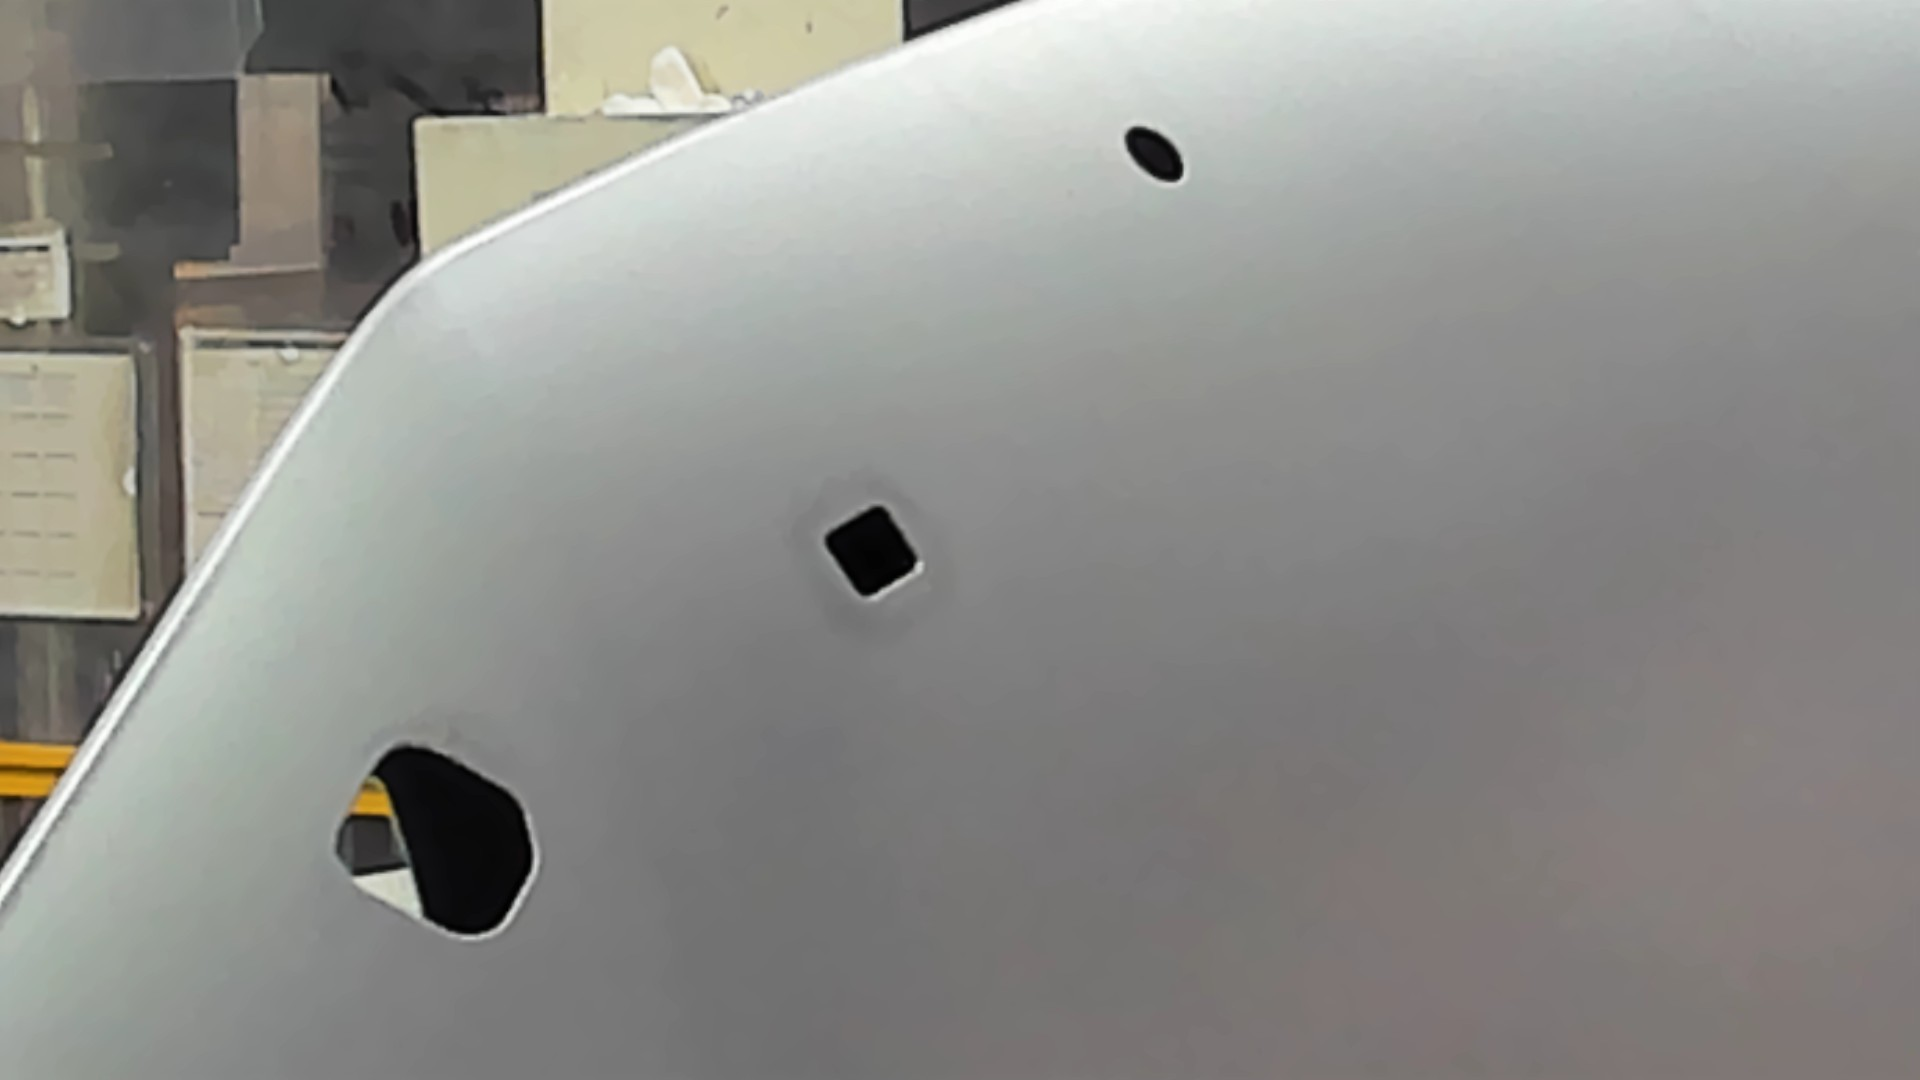chico: (1121, 120, 1191, 189)
grande: (330, 736, 543, 949)
mediano: (818, 497, 928, 605)
